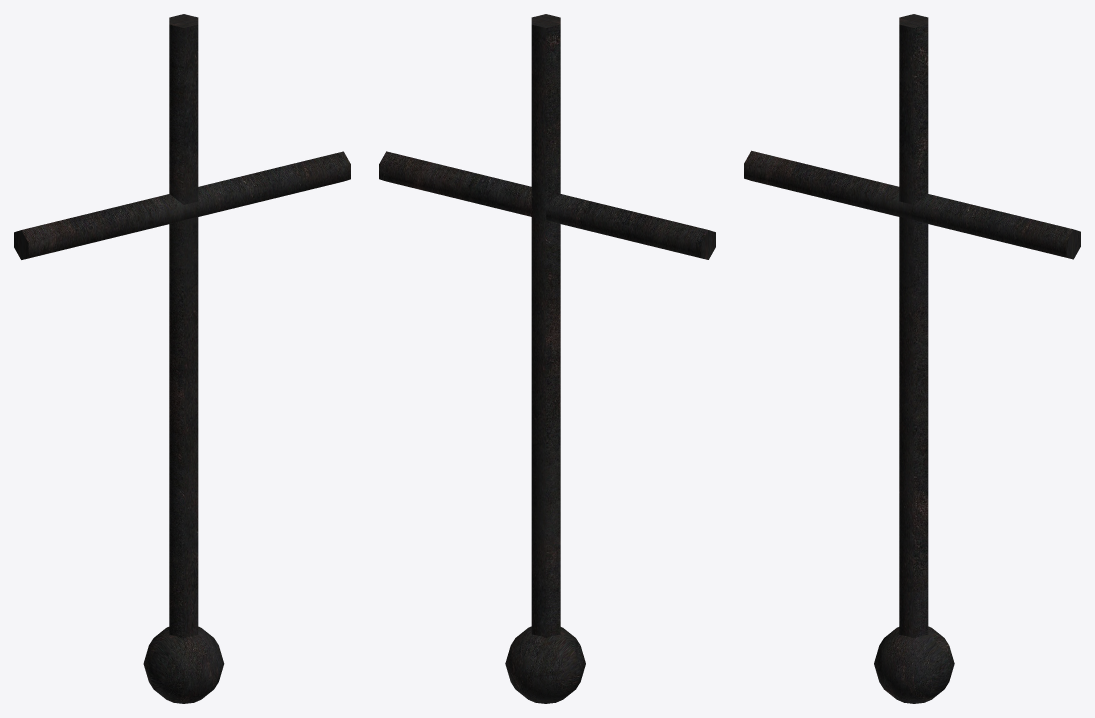
Rendered from Ceiling cross.FBX.
3 views of the same model, side by side, from view 1: azimuth 30°, elevation 25°; view 2: azimuth 150°, elevation 25°; view 3: azimuth 330°, elevation 25° (orthographic).
Parts seen in each view (by area): view 1: ceiling cross; view 2: ceiling cross; view 3: ceiling cross.
Boxes of the visible parts, x1,y1,x2,y2 form: ceiling cross: (14,14,350,703); ceiling cross: (379,14,715,703); ceiling cross: (744,14,1080,703).
Bounding box in the file's own units: 71.1 × 143 × 15.43.
1 material, 1 textured.
